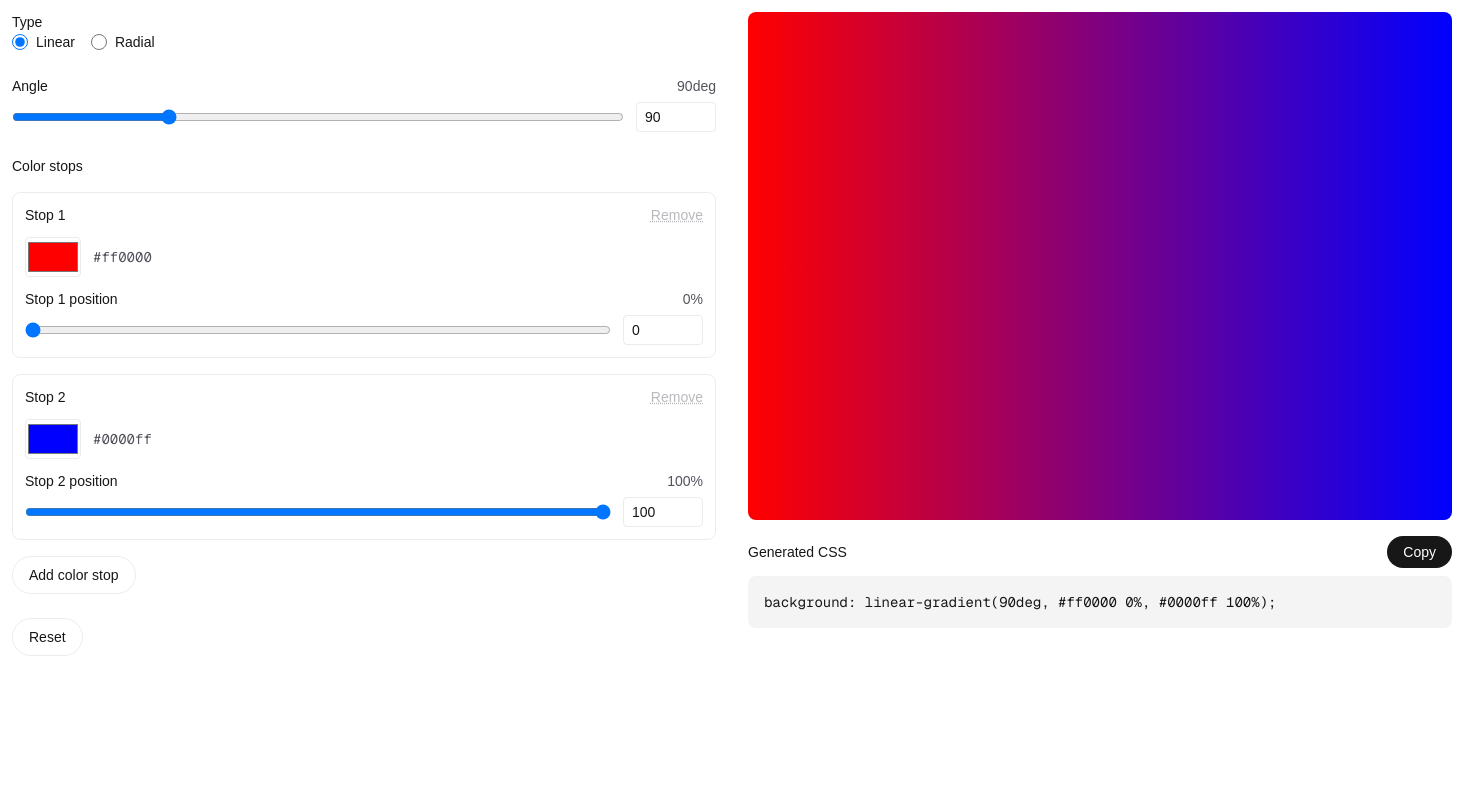
Test: GradientGenerator › adds a color stop
Click the button "Add color stop". click: (74,575)
box: top-left (12, 556), bottom-right (136, 594)
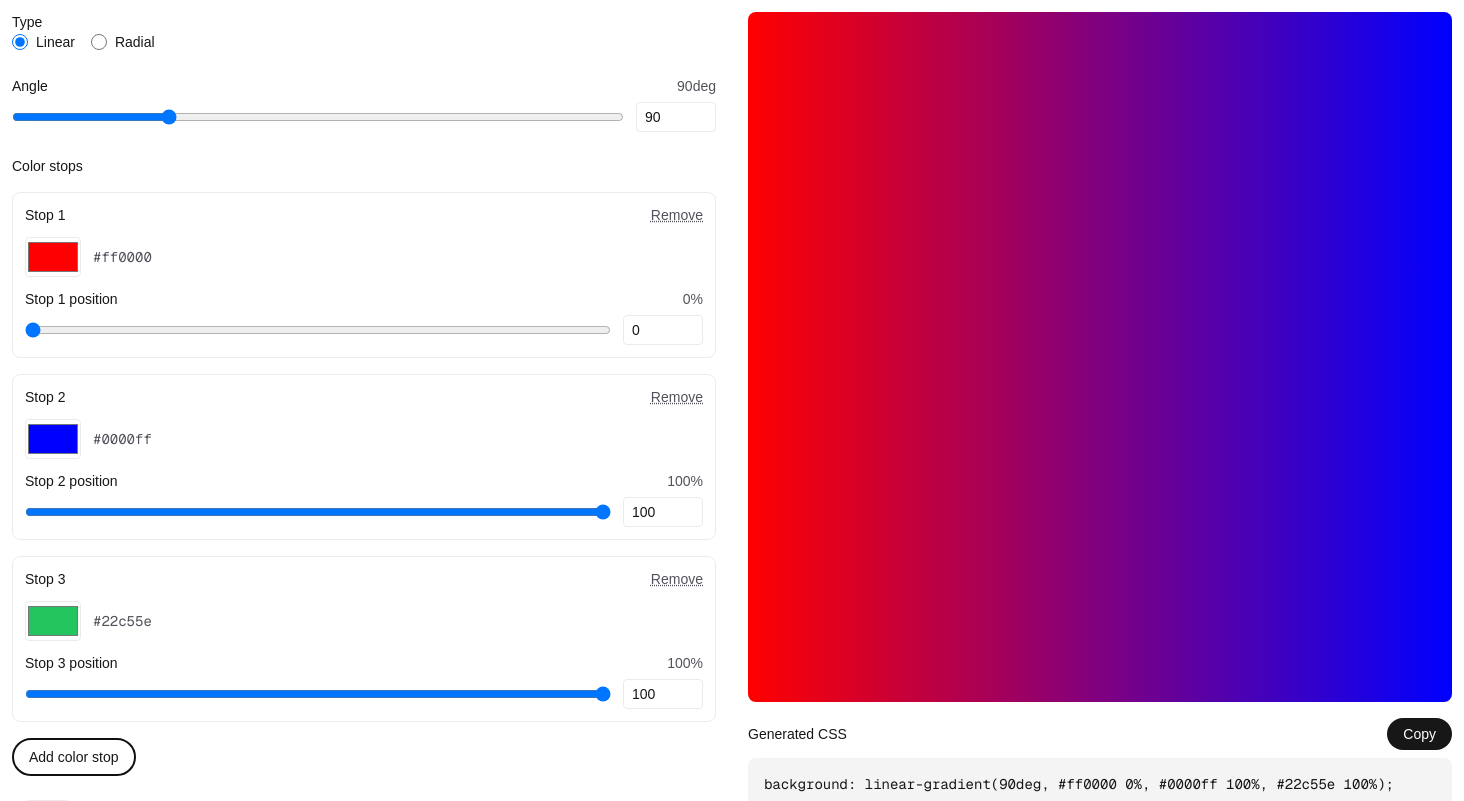
Now the slider labelled "Stop 3 position" is shown, box top-left (25, 686), bottom-right (611, 702)
